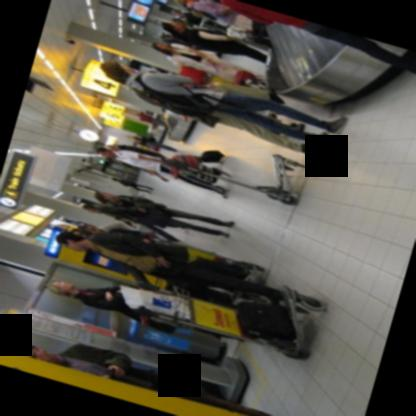backpack: (133, 87, 238, 116), (231, 290, 283, 306)
suitcase: (235, 300, 296, 338), (201, 150, 226, 162)
